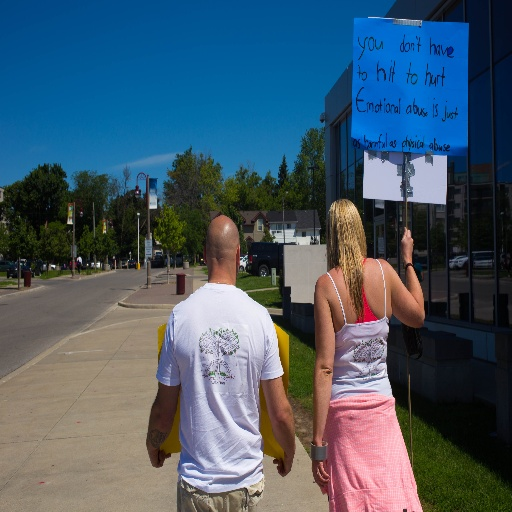hand: (398, 228, 425, 288), (310, 438, 329, 488), (271, 454, 294, 478), (148, 447, 171, 470)
